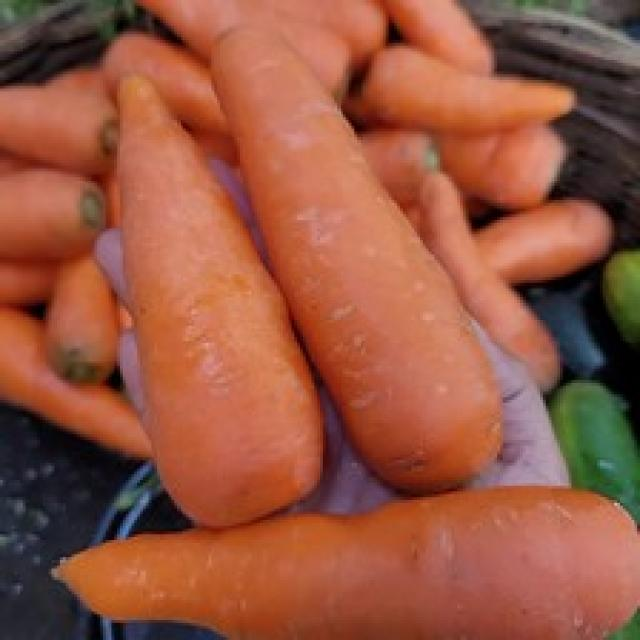Fresh_Carrot: (106, 80, 315, 532)
